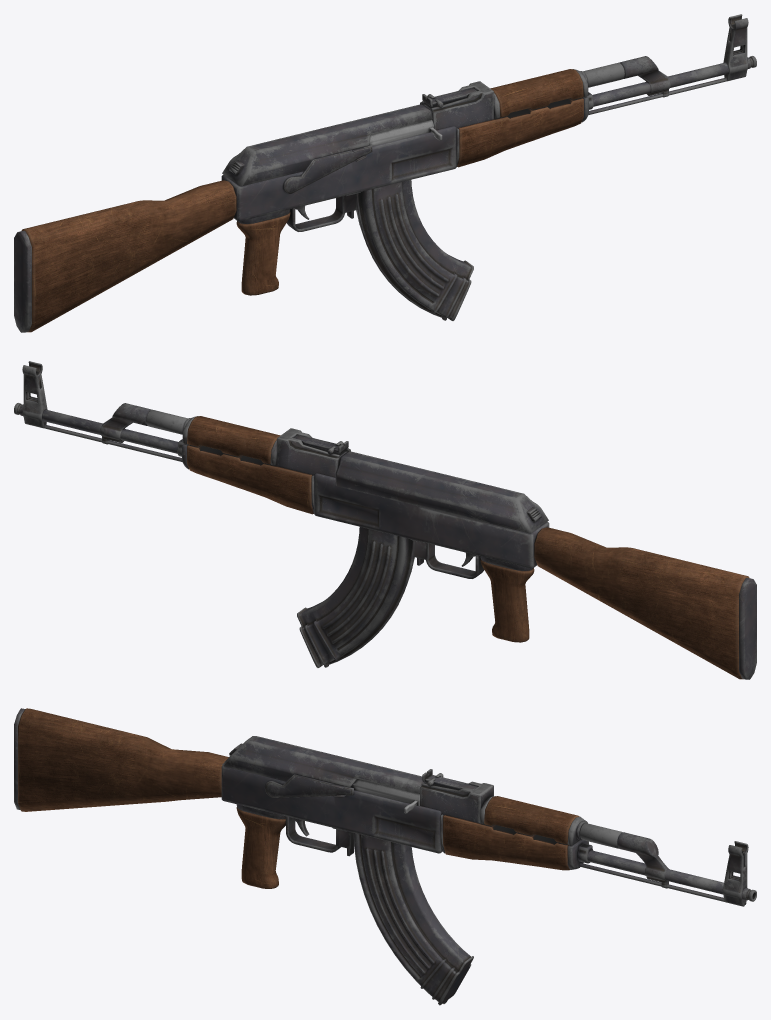
3 views of the same model, one above another, from view 1: azimuth 30°, elevation 25°; view 2: azimuth 150°, elevation 25°; view 3: azimuth 330°, elevation 25° (orthographic).
Parts seen in each view (by area): view 1: Butt_low, Magazine_low, Box_low, Top_low, StockWoodBottom_low, Handle_low, StockWoodTop_low, MidSightHolder_low, ButtCover_low, Barrel_low, SelectFire_low, IronSights_low (+5 smaller); view 2: Butt_low, Magazine_low, Box_low, Top_low, StockWoodBottom_low, Handle_low, StockWoodTop_low, MidSightHolder_low, ButtCover_low, Barrel_low, IronSights_low, BarrelSupport_low (+3 smaller); view 3: Butt_low, Magazine_low, Box_low, Top_low, StockWoodBottom_low, Handle_low, StockWoodTop_low, MidSightHolder_low, Barrel_low, SelectFire_low, IronSights_low, BarrelSupport_low (+4 smaller).
Boxes of the visible parts, bbox=[...] form: Butt_low: bbox=[21, 180, 236, 332]; Magazine_low: bbox=[356, 180, 473, 320]; Box_low: bbox=[221, 126, 456, 221]; Top_low: bbox=[222, 104, 433, 186]; StockWoodBottom_low: bbox=[457, 98, 583, 167]; Handle_low: bbox=[236, 211, 290, 295]; StockWoodTop_low: bbox=[490, 69, 583, 117]; MidSightHolder_low: bbox=[420, 81, 493, 130]; ButtCover_low: bbox=[14, 231, 31, 332]; Barrel_low: bbox=[592, 56, 756, 106]; SelectFire_low: bbox=[283, 144, 372, 193]; IronSights_low: bbox=[723, 14, 748, 81]; Butt_low: bbox=[534, 527, 749, 679]; Magazine_low: bbox=[297, 527, 414, 667]; Box_low: bbox=[314, 473, 549, 568]; Top_low: bbox=[335, 451, 548, 533]; StockWoodBottom_low: bbox=[187, 445, 313, 514]; Handle_low: bbox=[480, 558, 534, 642]; StockWoodTop_low: bbox=[187, 416, 280, 464]; MidSightHolder_low: bbox=[277, 428, 350, 477]; ButtCover_low: bbox=[739, 578, 756, 679]; Barrel_low: bbox=[14, 403, 178, 453]; IronSights_low: bbox=[22, 361, 47, 428]; BarrelSupport_low: bbox=[100, 403, 151, 444]; Butt_low: bbox=[18, 708, 228, 811]; Magazine_low: bbox=[353, 833, 473, 1005]; Box_low: bbox=[221, 765, 442, 853]; Top_low: bbox=[222, 736, 426, 793]; StockWoodBottom_low: bbox=[443, 815, 569, 870]; Handle_low: bbox=[236, 807, 285, 888]; StockWoodTop_low: bbox=[484, 796, 579, 844]; MidSightHolder_low: bbox=[420, 781, 493, 823]; Barrel_low: bbox=[587, 850, 756, 901]; SelectFire_low: bbox=[264, 774, 353, 797]; IronSights_low: bbox=[722, 841, 748, 906]; BarrelSupport_low: bbox=[617, 832, 669, 888].
Bounding box in the file's own units: 1.65 × 0.4971 × 0.1083.
1 material, 1 textured.
